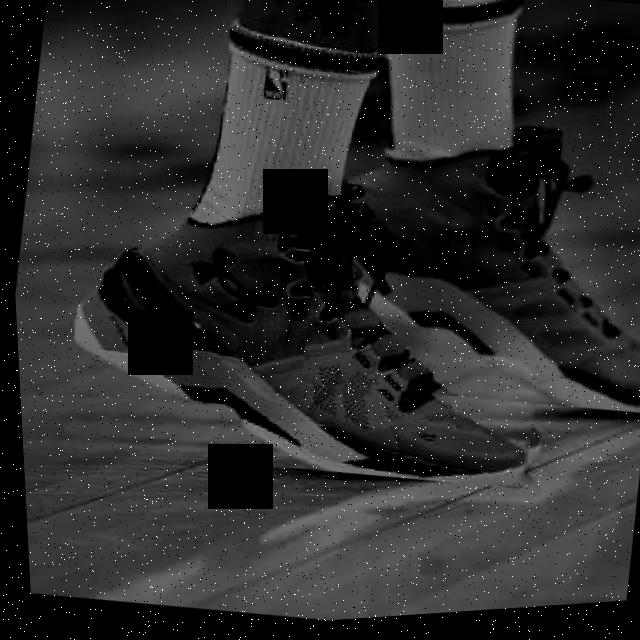shoe: (46, 136, 576, 522), (286, 94, 640, 440)
